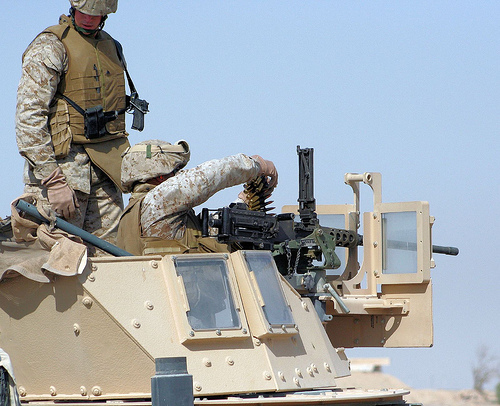rifle: (295, 153, 467, 257)
rifle in hand: (201, 137, 464, 262)
